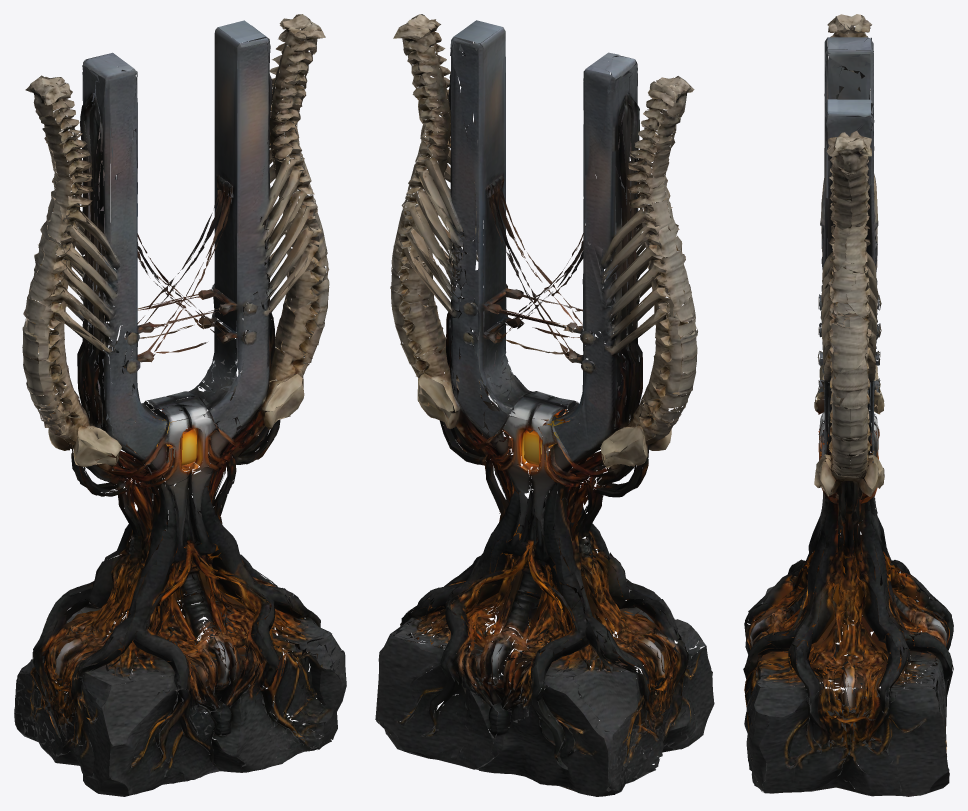
File: relay_harmonic_tuning_fork.glb
3 renders of one model, left to right at view 1: azimuth 30°, elevation 25°; view 2: azimuth 150°, elevation 25°; view 3: azimuth 270°, elevation 25°, orthographic. The views are drawn at different scales.
Parts seen in each view (by area): view 1: node_0; view 2: node_0; view 3: node_0.
Part boxes in pixels (x1,y1,x2,y2): node_0: (14, 14, 346, 796); node_0: (375, 14, 714, 796); node_0: (743, 14, 953, 796).
Bounding box in the file's own units: 0.5115 × 1.12 × 0.3195.
Materials: 1 (1 with a texture image).
